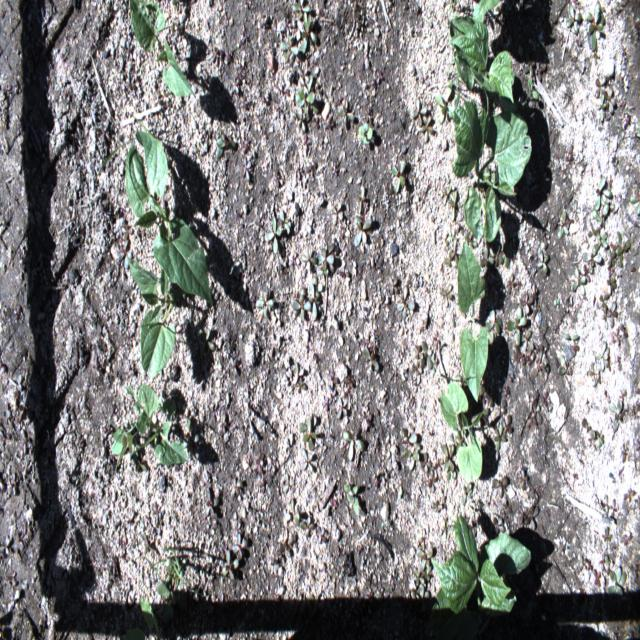crop: (125, 130, 213, 305), (452, 101, 532, 243), (429, 513, 532, 615), (109, 384, 188, 472), (447, 16, 518, 110), (129, 0, 196, 98), (126, 255, 180, 376), (457, 242, 488, 401), (440, 383, 484, 481), (138, 597, 165, 639), (434, 82, 456, 123), (473, 0, 500, 23), (124, 627, 146, 639)
weed: (93, 115, 182, 182), (143, 544, 202, 605), (586, 2, 605, 52), (296, 74, 318, 113), (264, 213, 283, 253), (298, 12, 316, 54), (507, 308, 526, 346), (291, 288, 312, 322), (343, 430, 365, 462), (397, 286, 415, 321), (298, 417, 316, 451), (486, 310, 503, 345), (256, 289, 274, 321), (222, 550, 240, 582), (390, 158, 406, 194), (608, 567, 628, 595), (279, 35, 298, 64), (216, 133, 238, 158), (204, 484, 219, 520), (354, 218, 372, 248), (596, 177, 612, 210), (344, 482, 359, 517), (316, 245, 334, 274), (532, 345, 548, 377), (582, 248, 602, 273), (609, 400, 625, 431), (284, 498, 300, 528), (300, 247, 318, 273), (411, 99, 427, 128), (566, 5, 582, 34), (493, 422, 508, 452), (570, 267, 586, 295), (595, 340, 608, 372), (199, 328, 215, 354), (403, 444, 419, 470), (357, 122, 374, 146), (558, 206, 570, 239), (416, 548, 434, 570), (492, 476, 509, 499), (233, 533, 248, 559), (448, 237, 463, 263), (441, 442, 454, 471), (420, 114, 433, 143), (524, 505, 539, 530), (280, 535, 297, 557), (480, 246, 493, 274), (365, 349, 380, 373), (277, 209, 292, 233), (593, 229, 608, 252), (132, 451, 147, 474), (293, 0, 311, 19), (581, 416, 595, 440), (339, 105, 355, 126), (489, 244, 504, 266), (302, 446, 314, 473), (400, 426, 418, 444), (536, 248, 548, 275), (592, 206, 609, 225), (301, 516, 315, 539), (520, 293, 534, 316), (297, 64, 310, 88), (419, 451, 432, 475), (494, 398, 508, 420), (586, 362, 598, 387), (422, 340, 432, 369), (607, 302, 618, 328), (604, 87, 615, 113), (596, 92, 606, 120), (492, 514, 506, 534), (331, 202, 343, 225), (521, 329, 533, 352), (310, 282, 317, 321), (283, 473, 295, 495), (530, 402, 542, 424), (460, 483, 472, 505), (357, 184, 366, 213), (296, 107, 306, 133), (242, 156, 252, 182), (427, 468, 437, 494), (293, 362, 304, 385), (440, 285, 452, 306), (313, 276, 323, 301), (527, 78, 538, 100), (602, 526, 612, 550), (414, 566, 426, 585), (502, 415, 514, 434), (231, 476, 242, 496), (558, 355, 569, 375), (595, 78, 606, 98), (450, 190, 457, 221), (617, 230, 623, 266), (570, 200, 580, 221), (615, 242, 630, 256), (623, 487, 636, 503), (506, 274, 516, 294), (430, 352, 438, 376), (600, 294, 611, 311), (295, 378, 308, 392), (630, 196, 640, 214), (0, 537, 10, 555), (605, 555, 613, 577), (532, 298, 541, 317), (316, 262, 328, 276), (465, 232, 477, 246), (524, 60, 534, 76), (607, 276, 618, 290), (593, 568, 601, 587), (602, 495, 610, 514), (443, 185, 451, 204), (413, 344, 423, 359), (561, 333, 579, 341), (422, 564, 431, 580), (608, 249, 616, 267), (591, 440, 601, 454), (610, 499, 617, 518), (598, 195, 610, 206), (446, 468, 456, 481), (412, 362, 422, 375), (612, 158, 619, 176), (596, 430, 604, 445), (602, 310, 608, 330), (431, 500, 442, 510), (505, 248, 510, 269), (554, 298, 560, 308)
